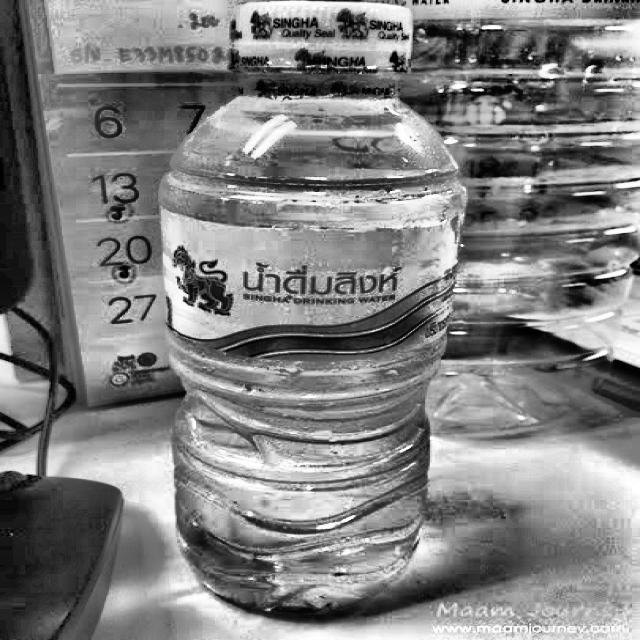waterbottle: (161, 1, 466, 614)
